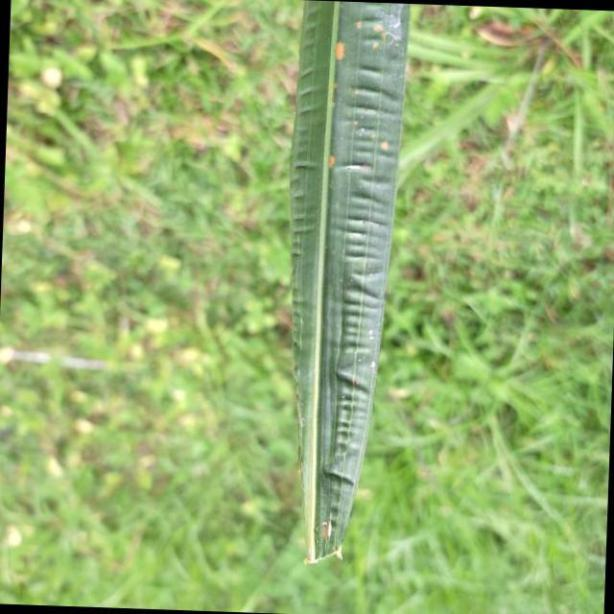Boron: (284, 0, 409, 572)
